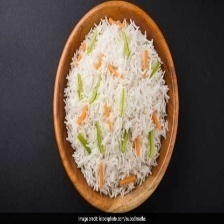rice: (60, 14, 172, 201)
